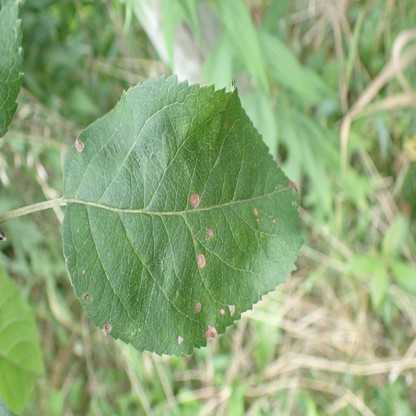frogeye_leaf_spot: (205, 326, 217, 342), (190, 193, 201, 209), (101, 322, 112, 336), (75, 139, 85, 151), (197, 253, 205, 268), (228, 304, 235, 317), (253, 208, 259, 223), (194, 302, 200, 313), (206, 228, 212, 237), (177, 336, 183, 345), (84, 294, 89, 300), (220, 308, 224, 315), (81, 269, 85, 275), (272, 218, 275, 223)
